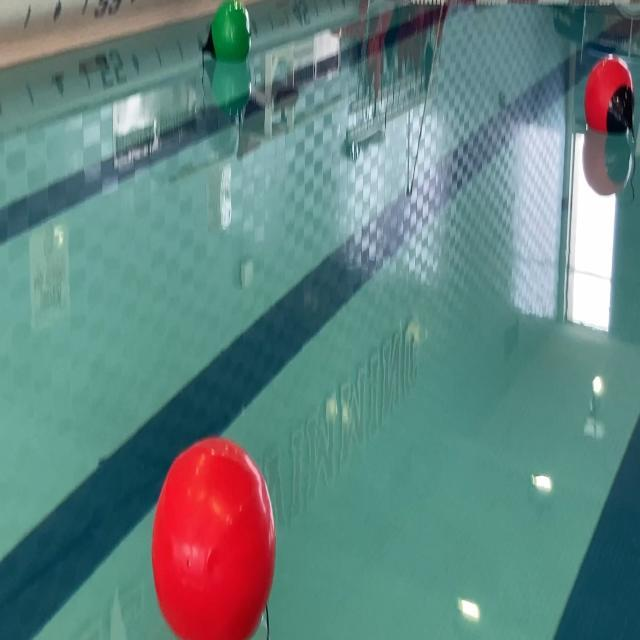buoy: (150, 435, 278, 640), (585, 54, 637, 138), (198, 0, 252, 62)
